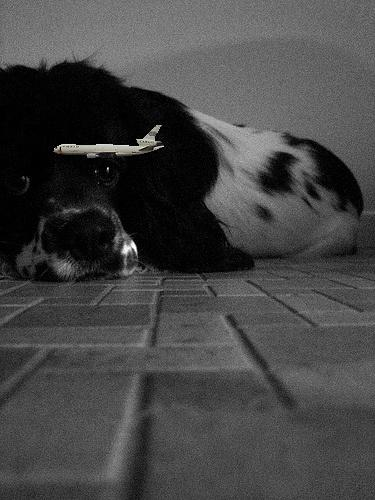tampered: (54, 126, 164, 158)
